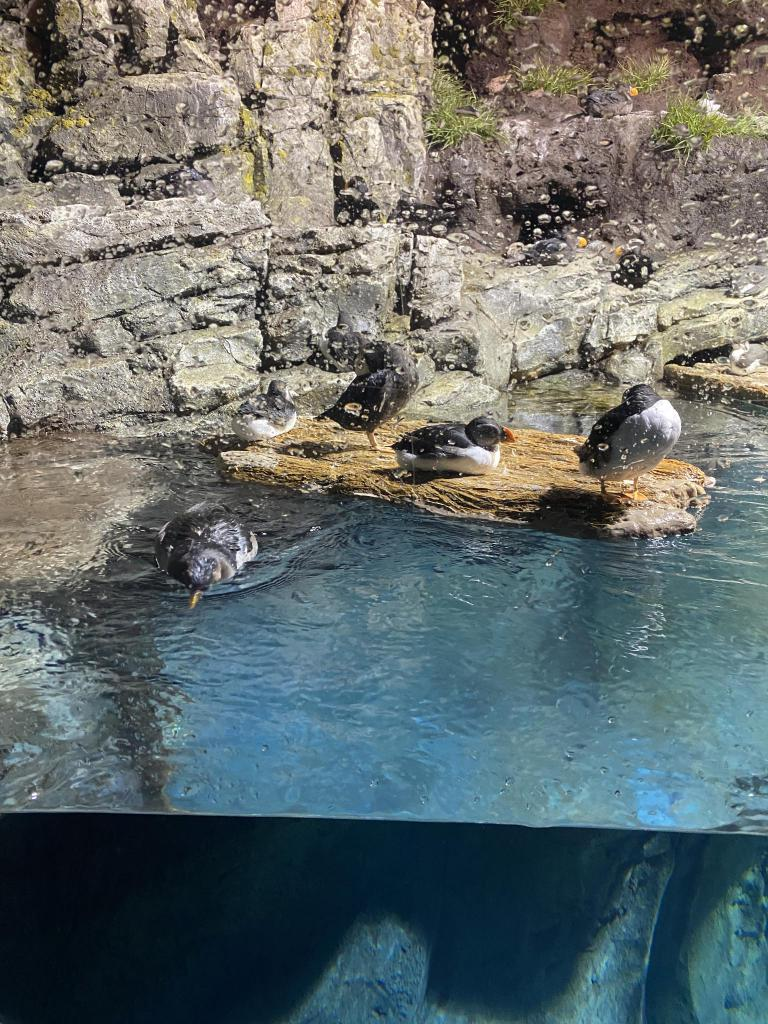puffin: (302, 324, 418, 452), (576, 382, 682, 498), (157, 486, 255, 610), (398, 420, 514, 484), (526, 230, 590, 268), (582, 83, 644, 121), (612, 242, 646, 290)
